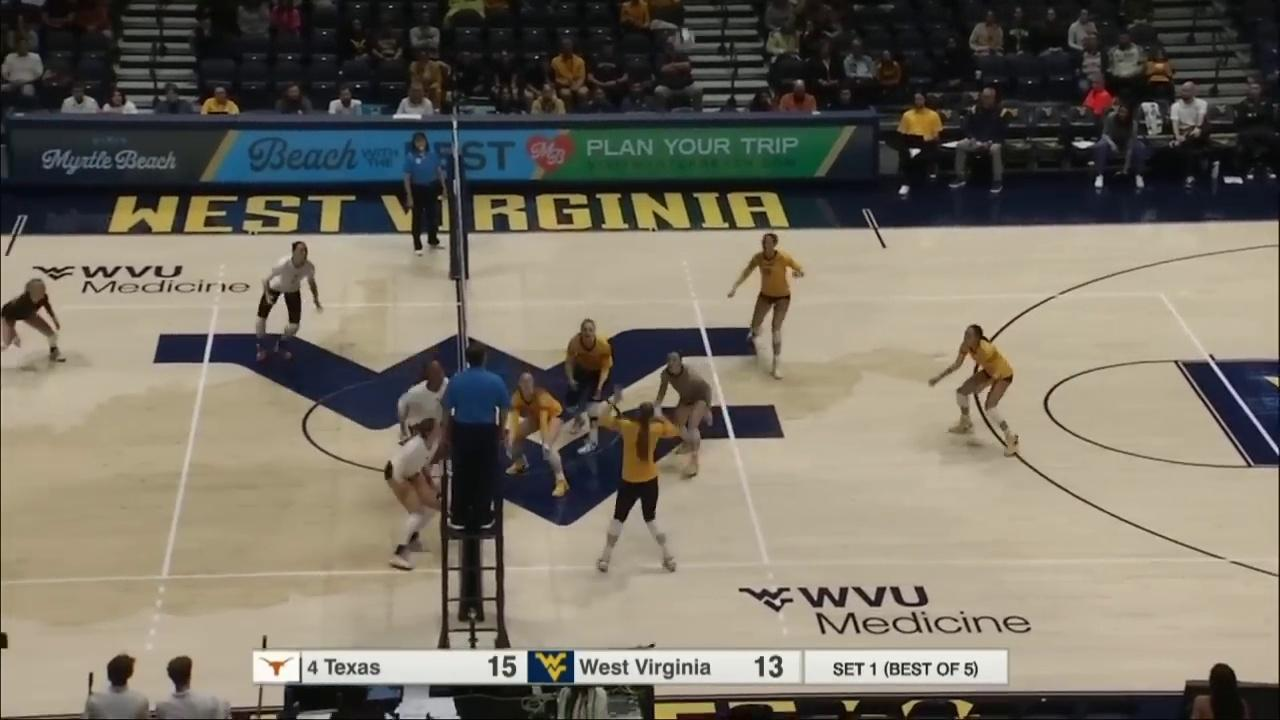player: (594, 404, 679, 575), (932, 322, 1020, 460), (727, 229, 806, 382), (380, 419, 451, 562), (392, 361, 453, 516), (250, 243, 325, 360), (506, 372, 572, 498), (649, 353, 713, 479), (559, 317, 615, 457), (0, 278, 69, 369)
refree: (439, 346, 509, 531), (402, 132, 446, 258)
